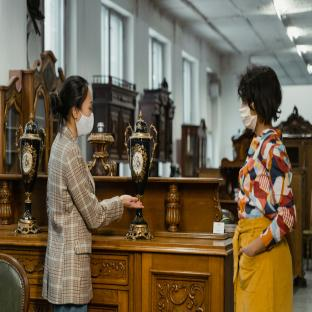Human: (42, 75, 143, 312), (233, 65, 296, 312)
